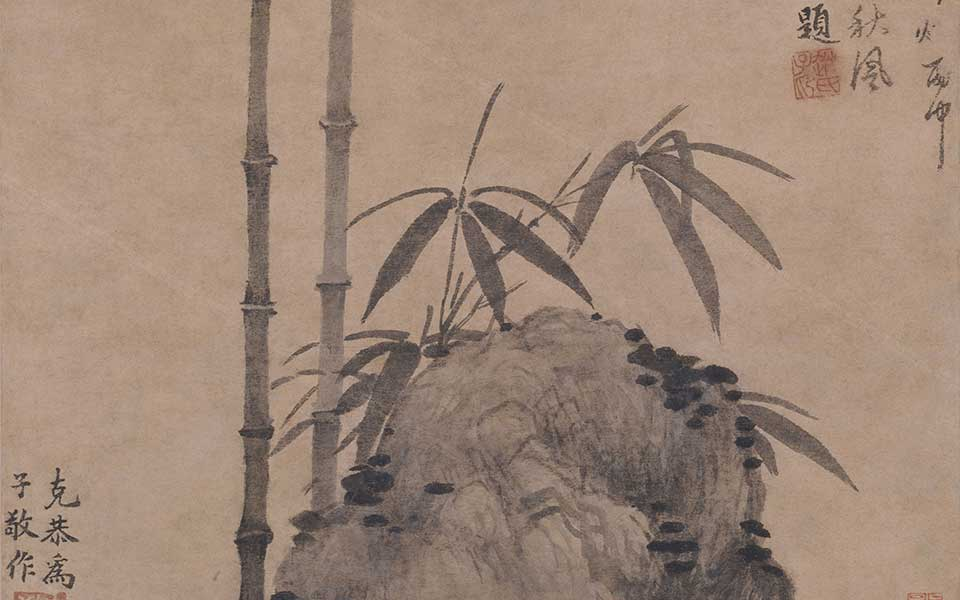bamboo: (362, 80, 795, 329), (237, 1, 343, 600)
hill: (250, 306, 839, 600)
